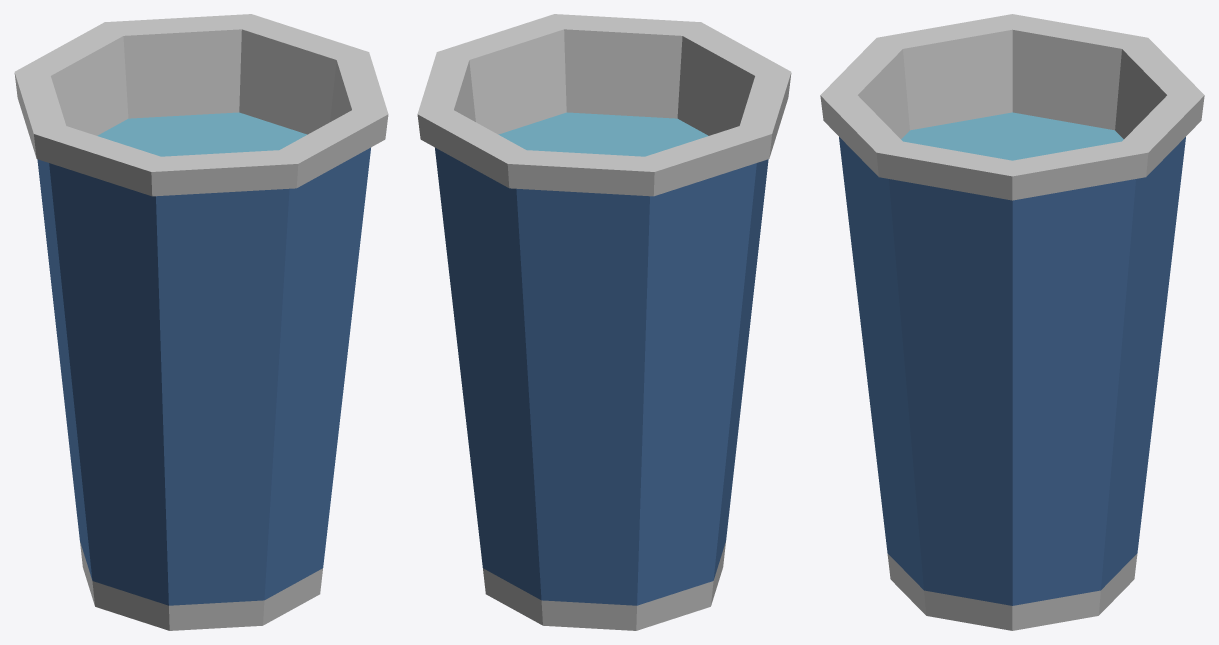
Rendered from SM_Food_Soda_05.fbx.
The picture shows the model from 3 angles, left to right: view 1: azimuth 30°, elevation 25°; view 2: azimuth 150°, elevation 25°; view 3: azimuth 270°, elevation 25°; orthographic projection.
Visible parts, largest first — view 1: SM_Food_Soda_05; view 2: SM_Food_Soda_05; view 3: SM_Food_Soda_05.
Part boxes in pixels (x1,y1,x2,y2): SM_Food_Soda_05: (14,14,388,630); SM_Food_Soda_05: (417,14,791,630); SM_Food_Soda_05: (820,14,1204,630).
Size of the model in its own units: 0.0693 by 0.0964 by 0.0693.
